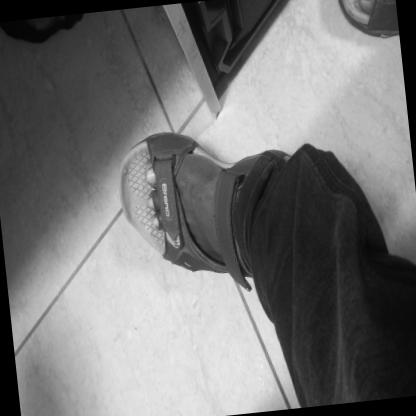ankle: (235, 185, 240, 191)
heel: (286, 156, 288, 160)
left_foot: (114, 120, 305, 290)
pinky: (178, 260, 180, 264)
toe: (148, 160, 151, 166)
